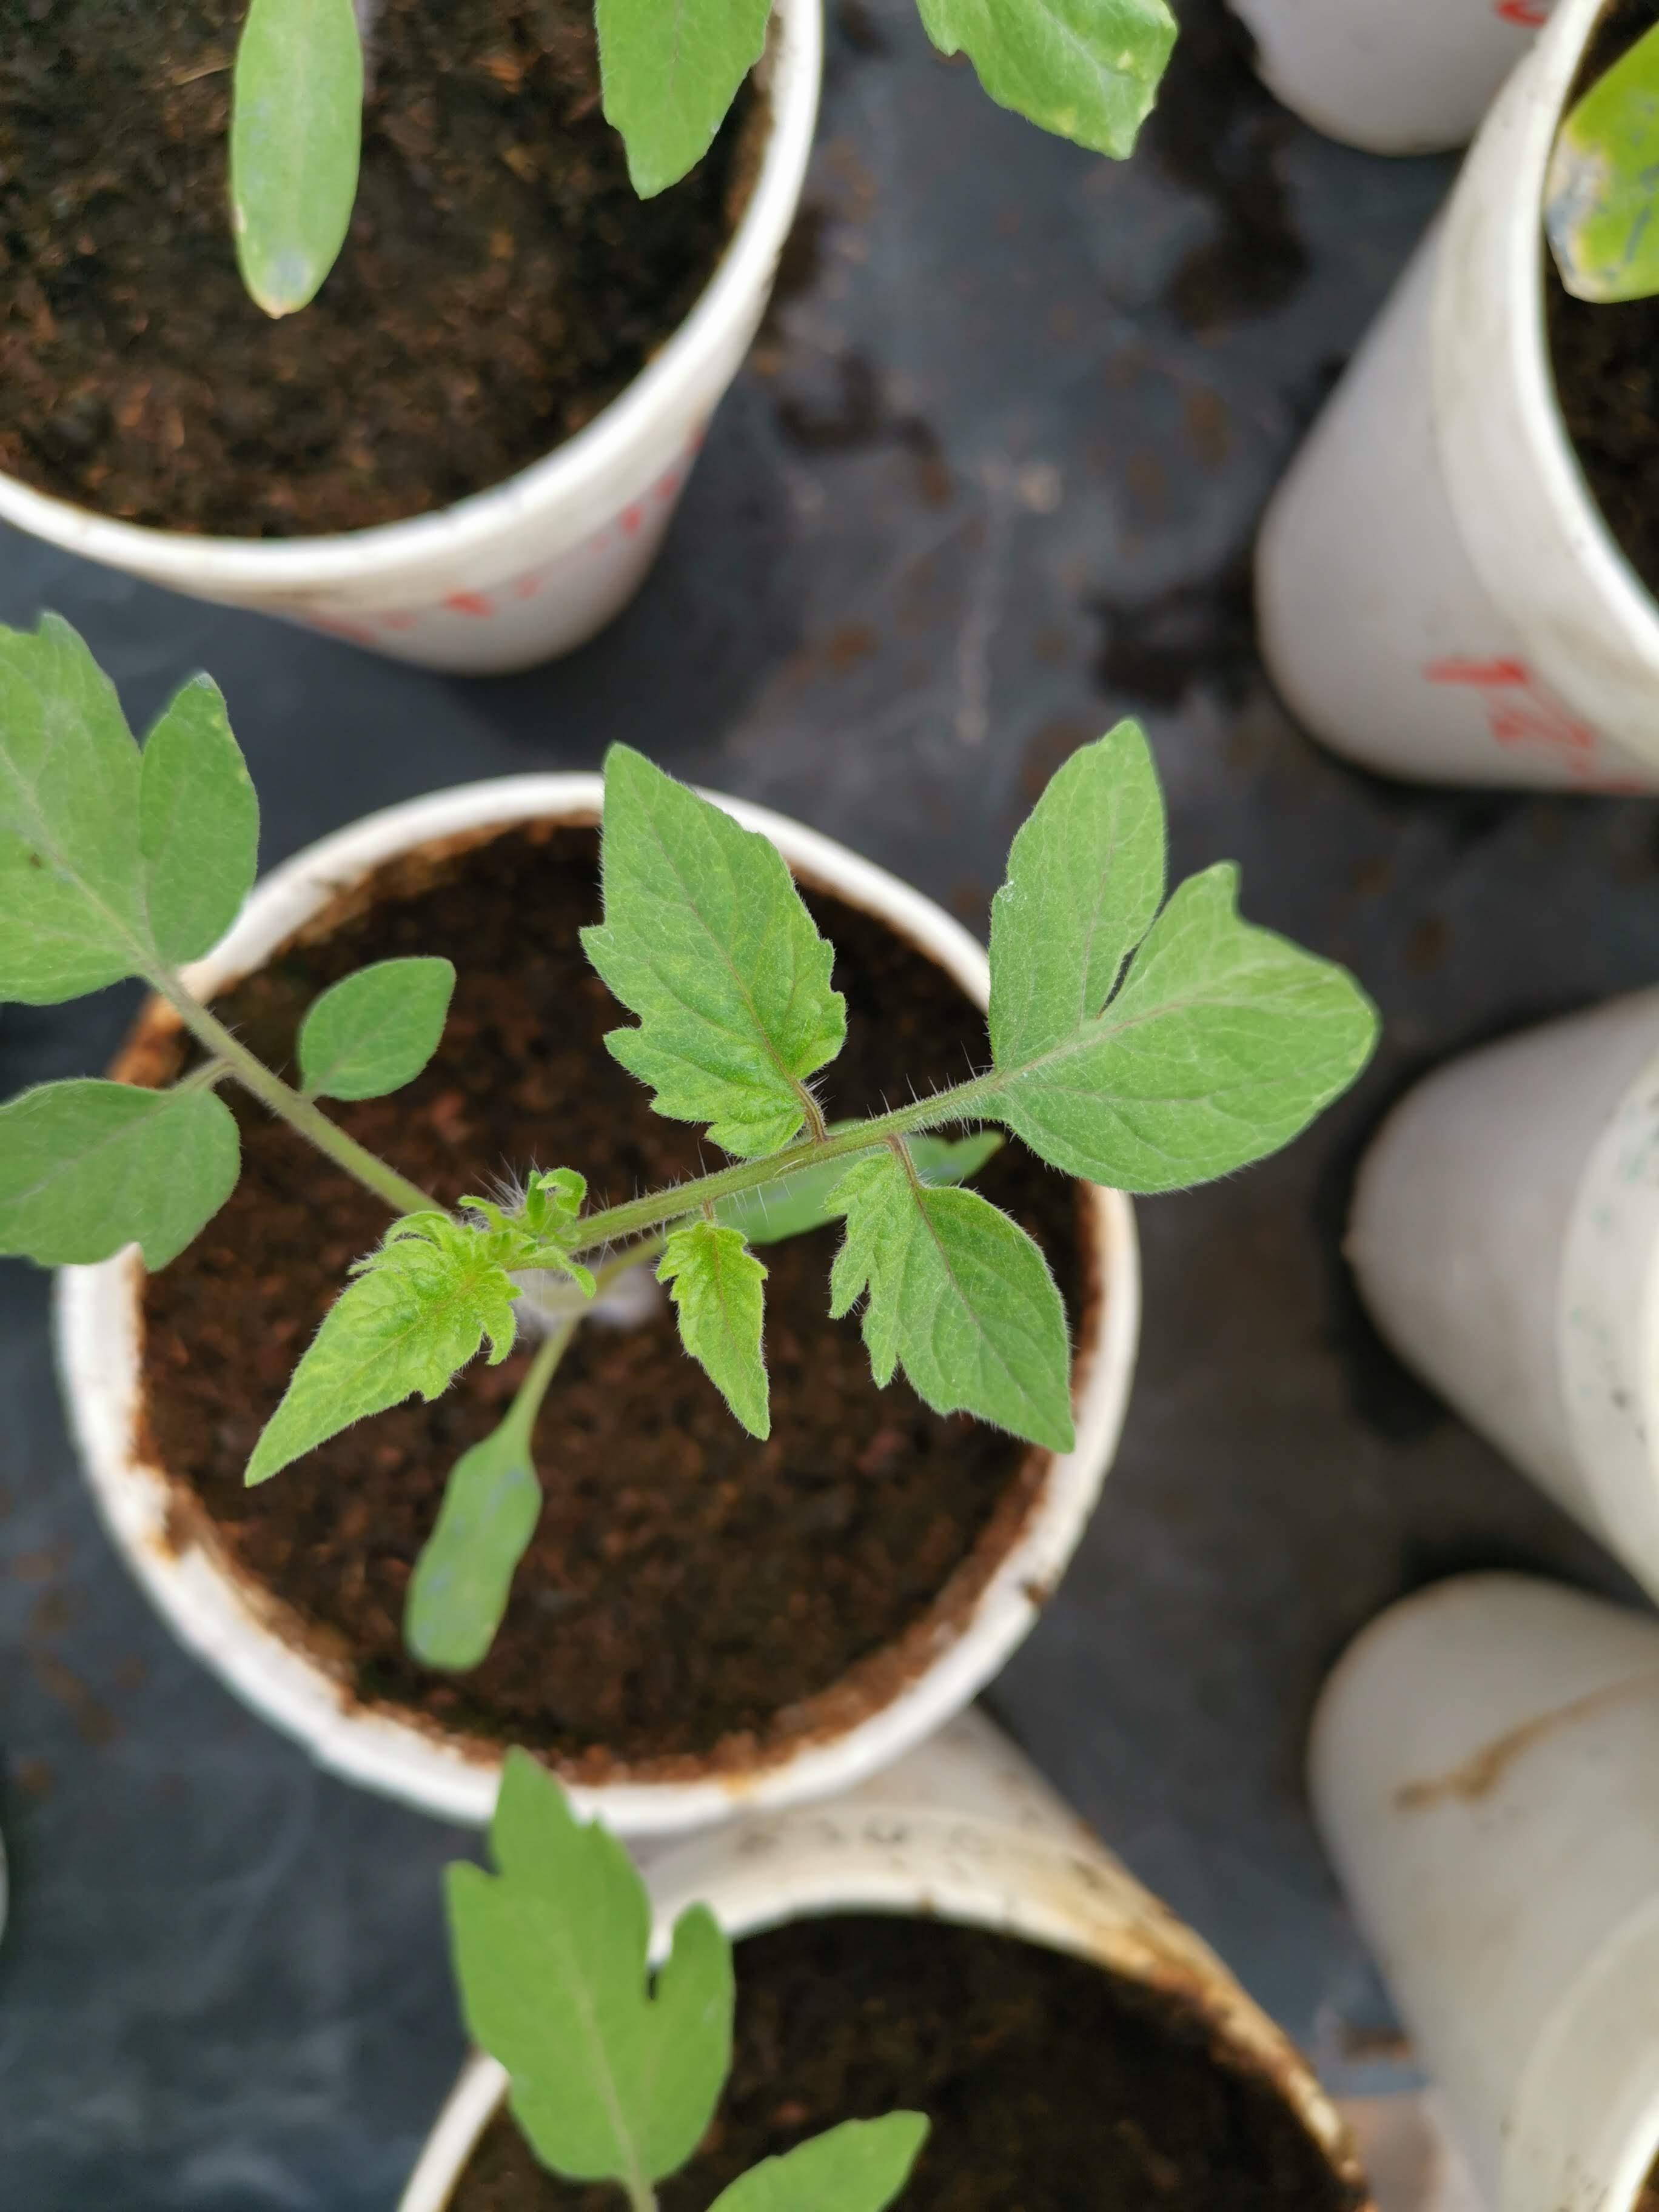Rugose leaf: (577, 738, 849, 1160), (242, 1165, 599, 1486), (917, 2, 1176, 160), (594, 0, 774, 200), (653, 1219, 770, 1440)
Rugose stem: (565, 1071, 1023, 1251)
